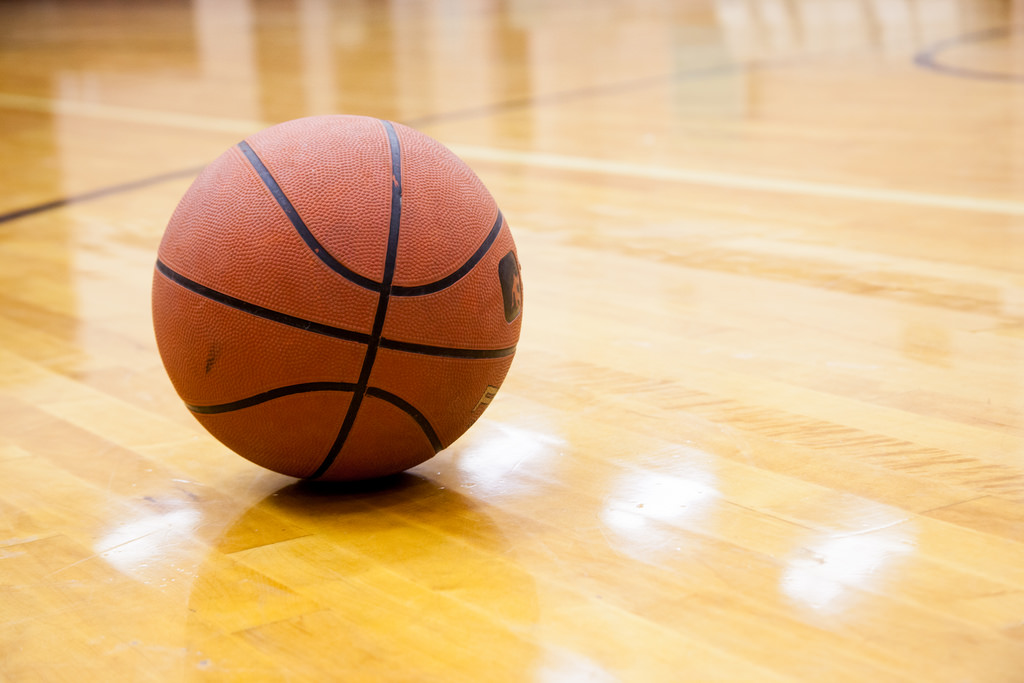Basketball: (147, 110, 526, 492)
